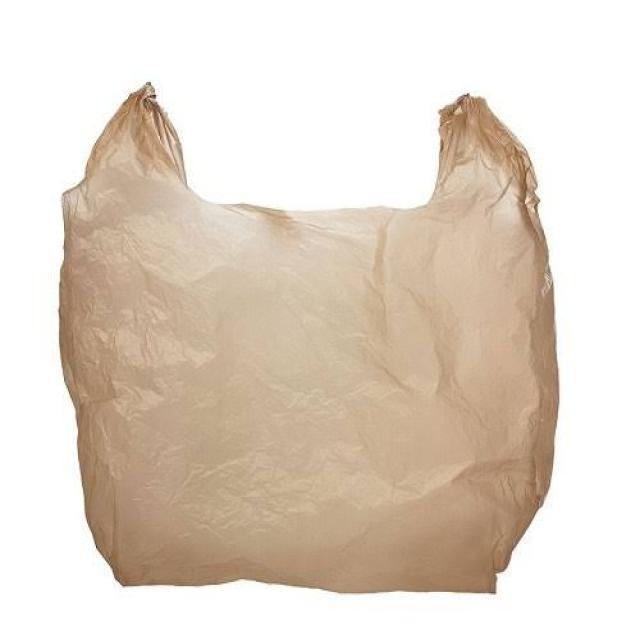plastic bag: (64, 88, 551, 598)
